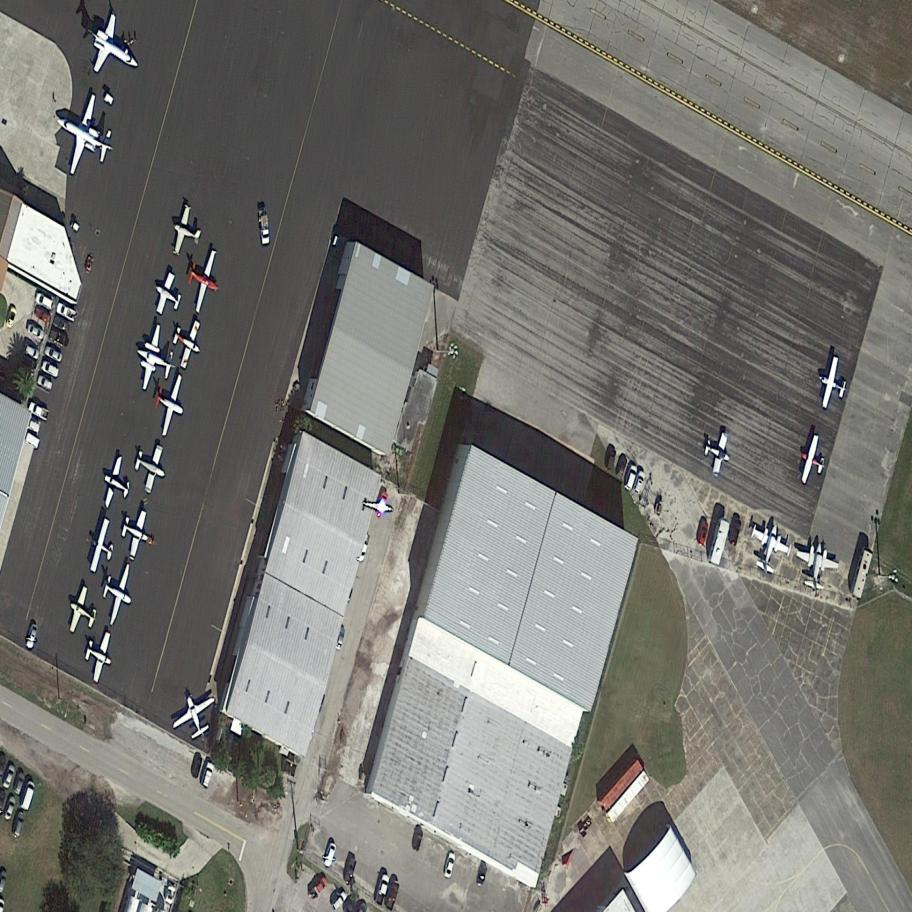large-vehicle: (602, 770, 653, 825), (596, 758, 645, 813), (707, 514, 732, 567), (258, 209, 272, 247)
plane: (37, 75, 127, 190), (84, 7, 151, 89), (159, 683, 233, 752), (127, 316, 187, 401), (741, 512, 800, 583), (93, 553, 144, 635), (179, 240, 229, 319), (146, 365, 194, 442), (114, 502, 166, 573), (790, 535, 845, 596), (163, 311, 210, 375), (60, 581, 107, 643), (129, 434, 173, 500), (812, 352, 855, 417), (96, 451, 138, 516), (79, 623, 120, 688), (83, 514, 123, 579), (794, 429, 835, 492), (167, 203, 208, 263), (147, 267, 189, 323), (698, 426, 738, 481)
small-vehicle: (305, 875, 332, 903), (374, 871, 392, 908), (25, 400, 52, 423), (46, 327, 73, 350), (18, 781, 38, 812), (53, 302, 80, 324), (384, 880, 402, 912), (341, 855, 359, 886), (329, 888, 352, 912), (32, 291, 57, 313), (198, 760, 216, 790), (38, 359, 63, 380), (24, 622, 41, 652), (24, 321, 48, 342), (42, 344, 66, 365), (31, 305, 55, 325), (622, 465, 639, 493), (442, 851, 458, 880), (322, 840, 338, 869), (21, 342, 44, 362), (357, 532, 372, 562), (728, 518, 743, 548), (2, 795, 18, 823), (35, 374, 57, 394), (374, 491, 390, 518), (11, 811, 27, 838), (12, 772, 29, 797), (3, 305, 20, 329), (631, 470, 647, 495), (1, 764, 16, 790), (615, 455, 630, 480), (475, 863, 490, 888), (51, 317, 73, 334), (190, 753, 204, 779), (412, 826, 425, 853), (697, 520, 710, 547), (605, 448, 617, 474), (335, 625, 346, 652)
